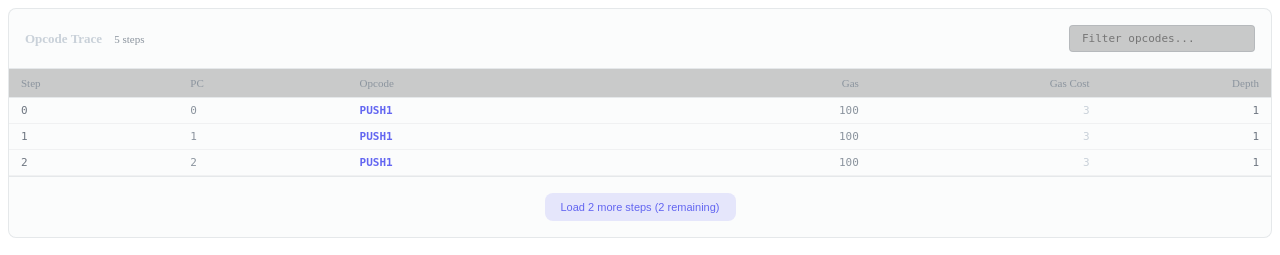
Test: OpcodeViewer › loads more on click
Expected: the text "STOP" is not shown
Click the button "Load 2 more steps (2 remaining)" at {"x": 640, "y": 207}, box [544,193,736,221]
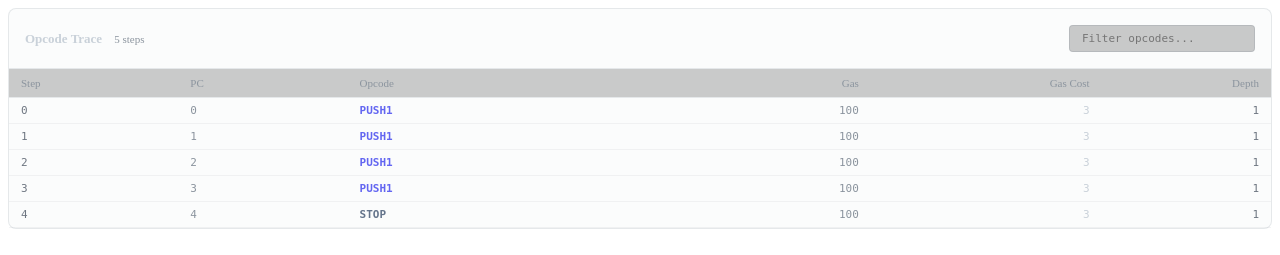
Expected: the text "STOP" is shown, [360,208,386,221]
